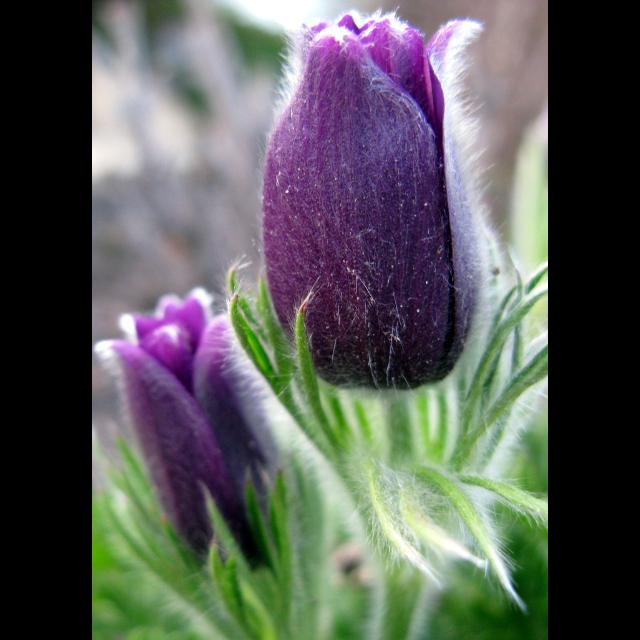Flower: (211, 0, 509, 430), (98, 285, 300, 567)
